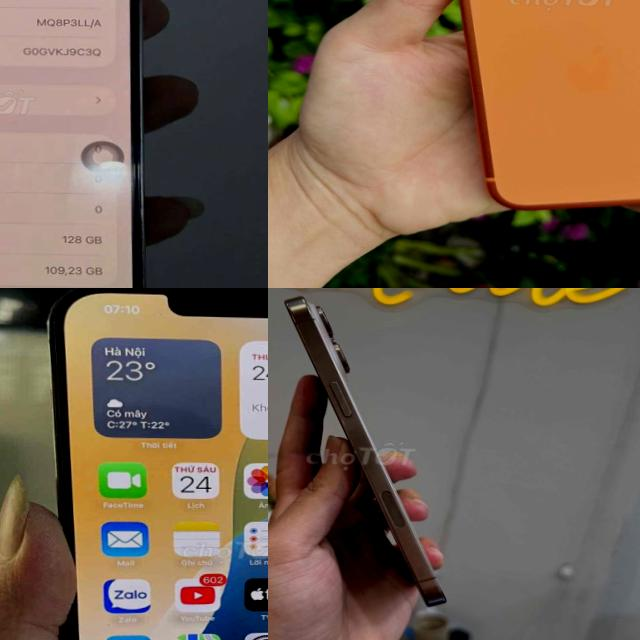gen_12_13: (32, 288, 268, 640)
gen_14: (0, 0, 172, 288)
gen_16: (271, 288, 474, 620)
gen_17: (425, 0, 640, 225)
